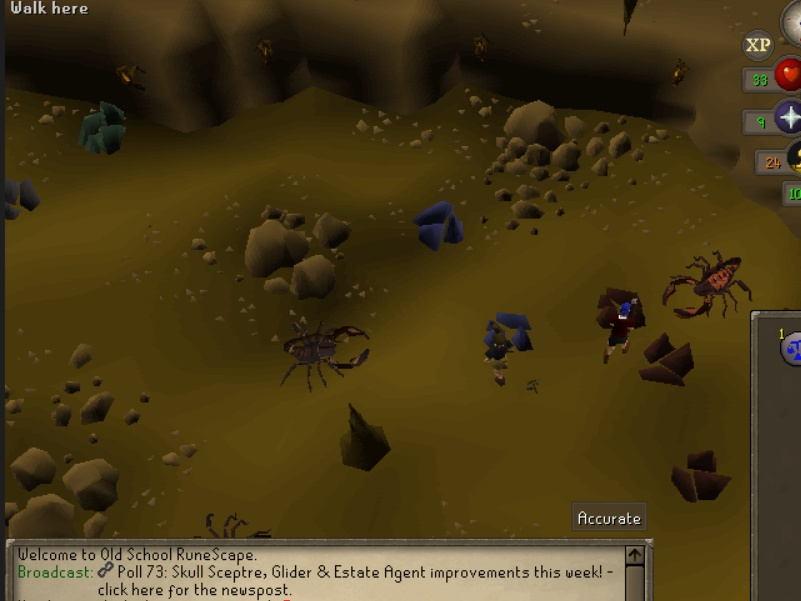adamant: (76, 96, 131, 165)
iron: (670, 446, 736, 507), (591, 277, 653, 333), (635, 331, 697, 387)
mithril: (409, 198, 473, 252), (477, 303, 541, 357)
